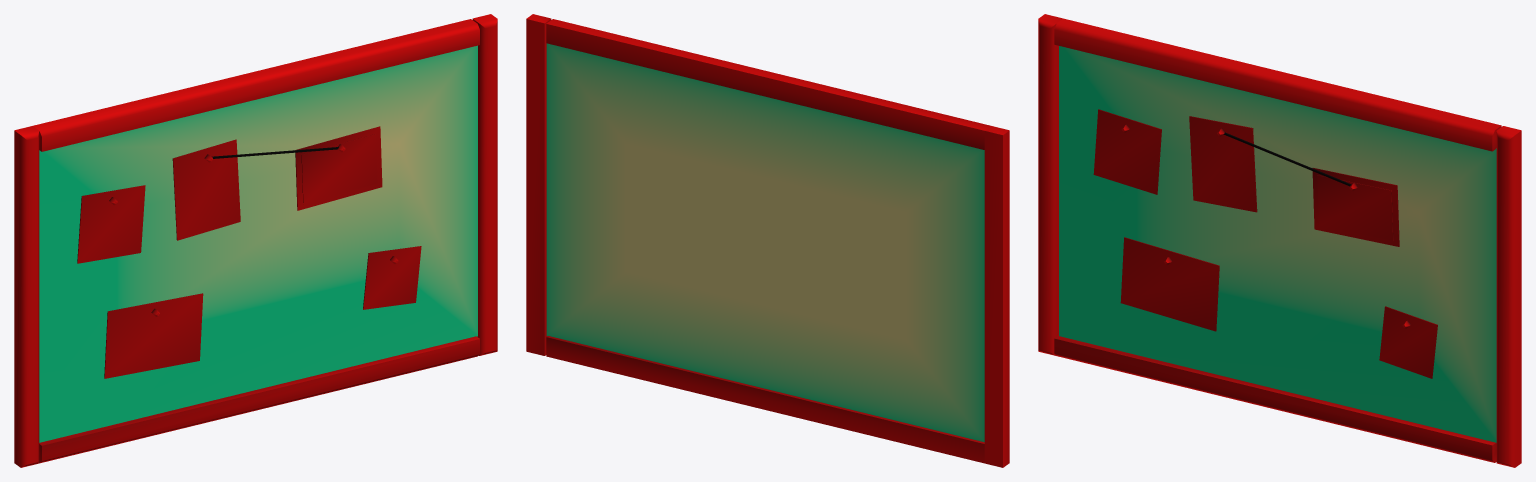
Rendered from CI_Office_CorkBoard.glb.
3 renders of one model, left to right at view 1: azimuth 30°, elevation 25°; view 2: azimuth 150°, elevation 25°; view 3: azimuth 330°, elevation 25°, orthographic.
Parts seen in each view (by area): view 1: CI_Office_CorkBoard; view 2: CI_Office_CorkBoard; view 3: CI_Office_CorkBoard.
Boxes of the visible parts, x1,y1,x2,y2 form: CI_Office_CorkBoard: [14, 14, 497, 467]; CI_Office_CorkBoard: [526, 14, 1009, 467]; CI_Office_CorkBoard: [1038, 14, 1521, 467].
Bounding box in the file's own units: 0.9 × 0.6 × 0.038.
